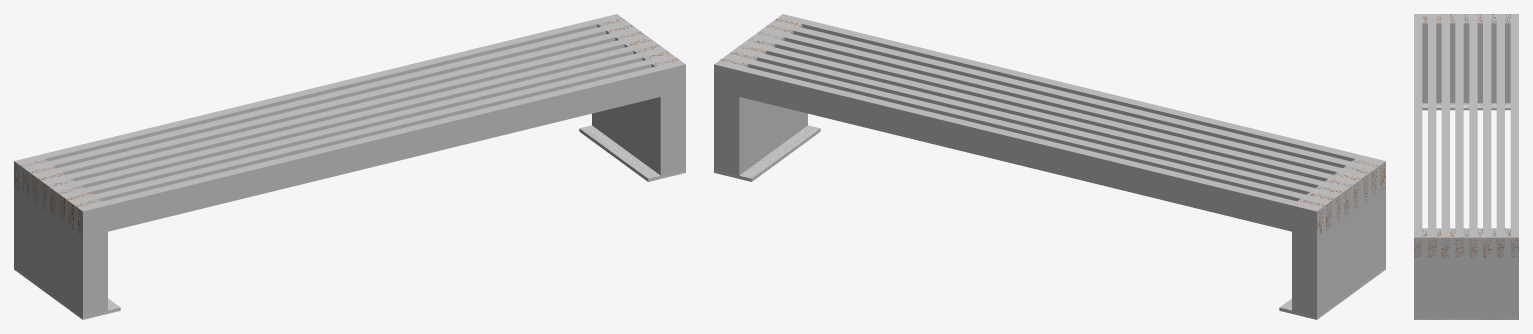
The picture shows the model from 3 angles, left to right: view 1: azimuth 30°, elevation 25°; view 2: azimuth 150°, elevation 25°; view 3: azimuth 270°, elevation 25°; orthographic projection. The views are drawn at different scales.
Parts seen in each view (by area): view 1: mesh1_mesh1-geometry; view 2: mesh1_mesh1-geometry; view 3: mesh1_mesh1-geometry.
Boxes of the visible parts, <box> form: mesh1_mesh1-geometry: <box>14,14,685,319</box>; mesh1_mesh1-geometry: <box>714,14,1385,319</box>; mesh1_mesh1-geometry: <box>1414,14,1518,319</box>.
Bounding box in the file's own units: 0.9673 × 0.1663 × 0.1914.
